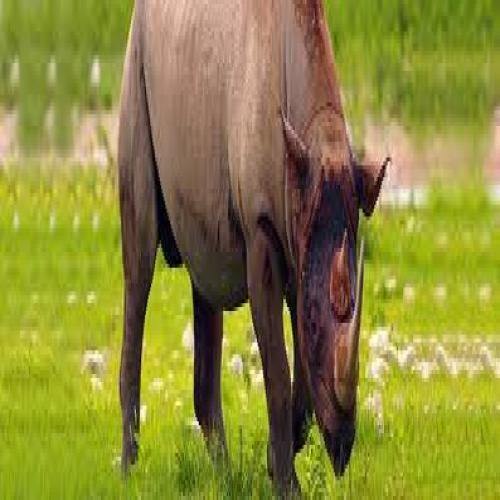rhino-endangered: (118, 0, 392, 500)
